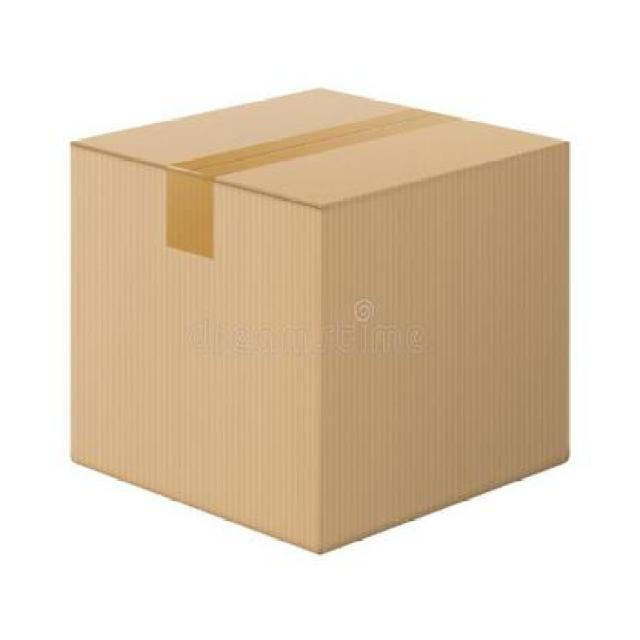normal: (57, 85, 578, 564)
